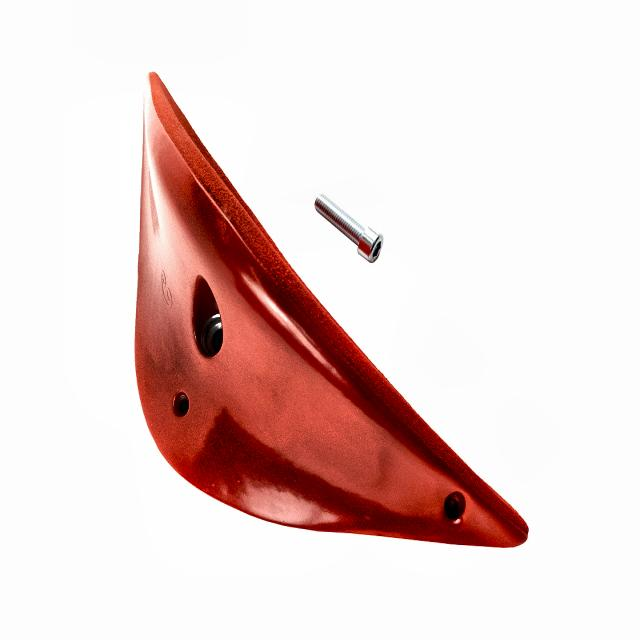Hold: (121, 48, 550, 556)
